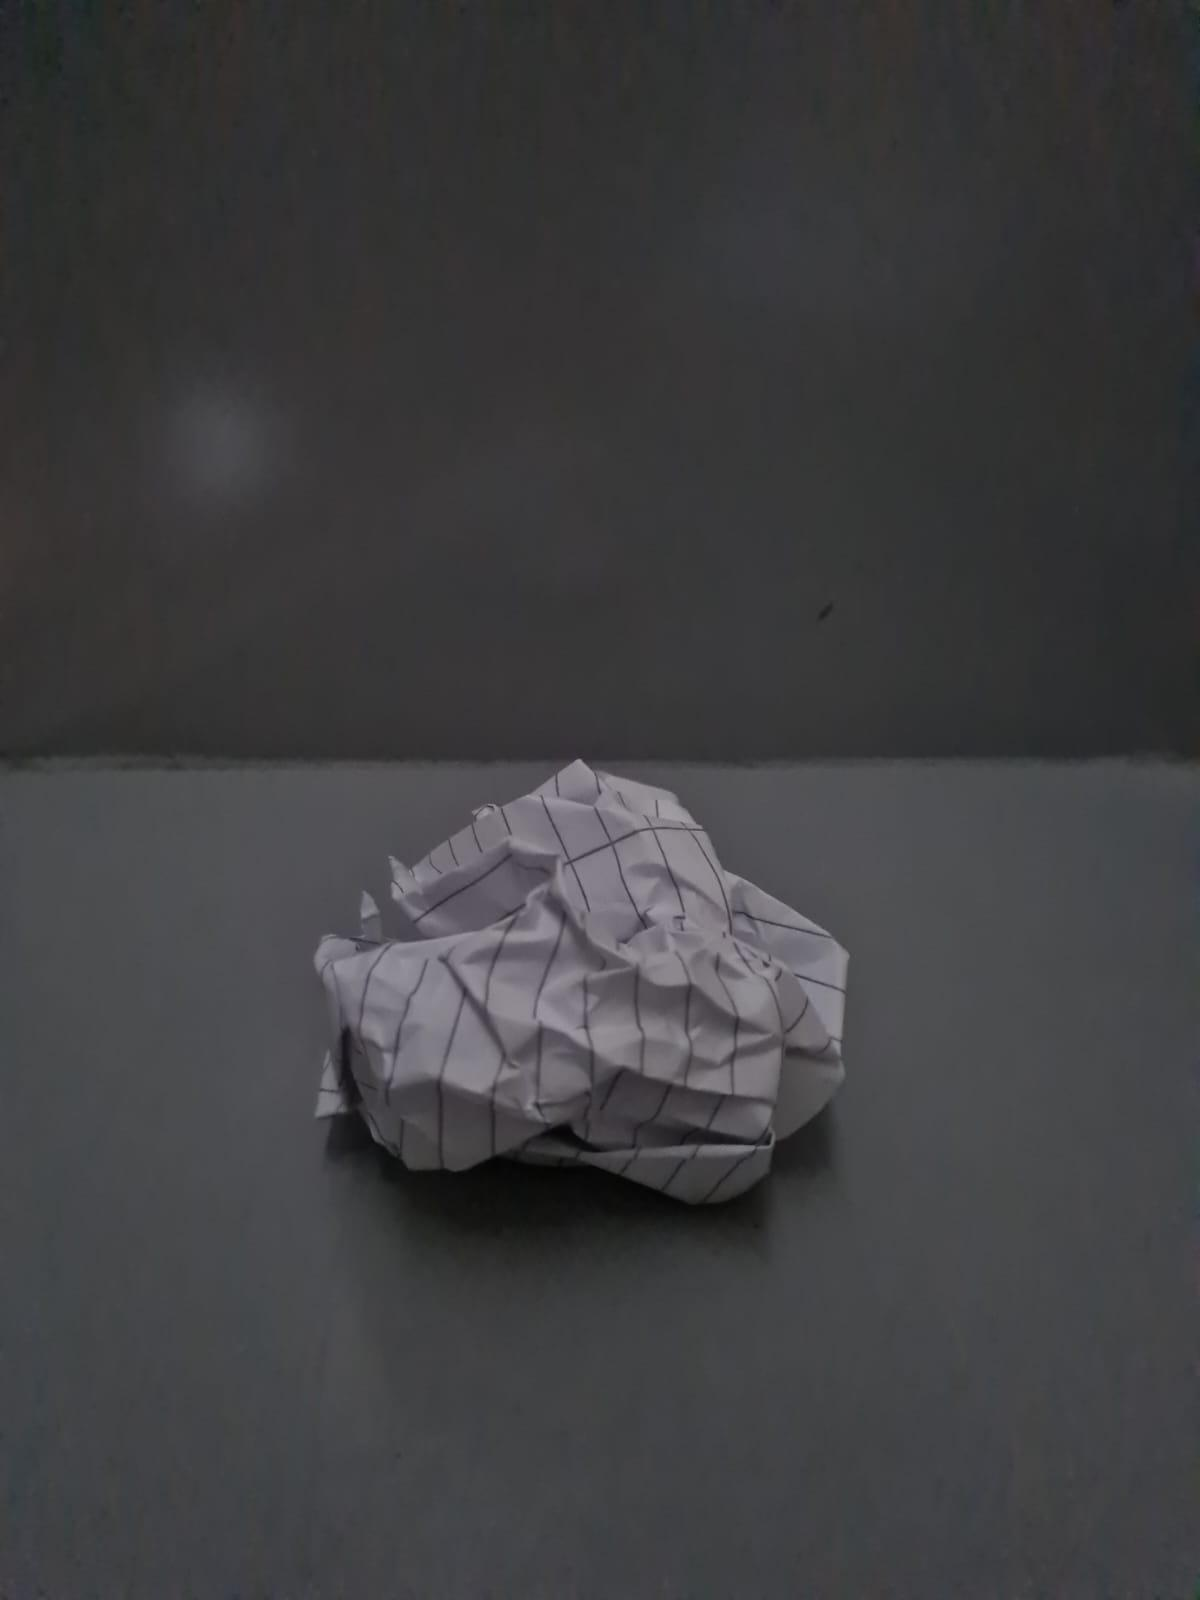Paper: (261, 757, 880, 1220)
